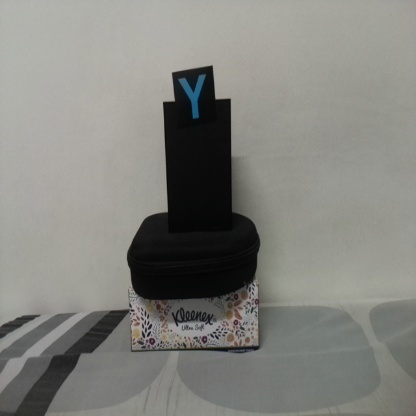id_14: (171, 71, 216, 127)
